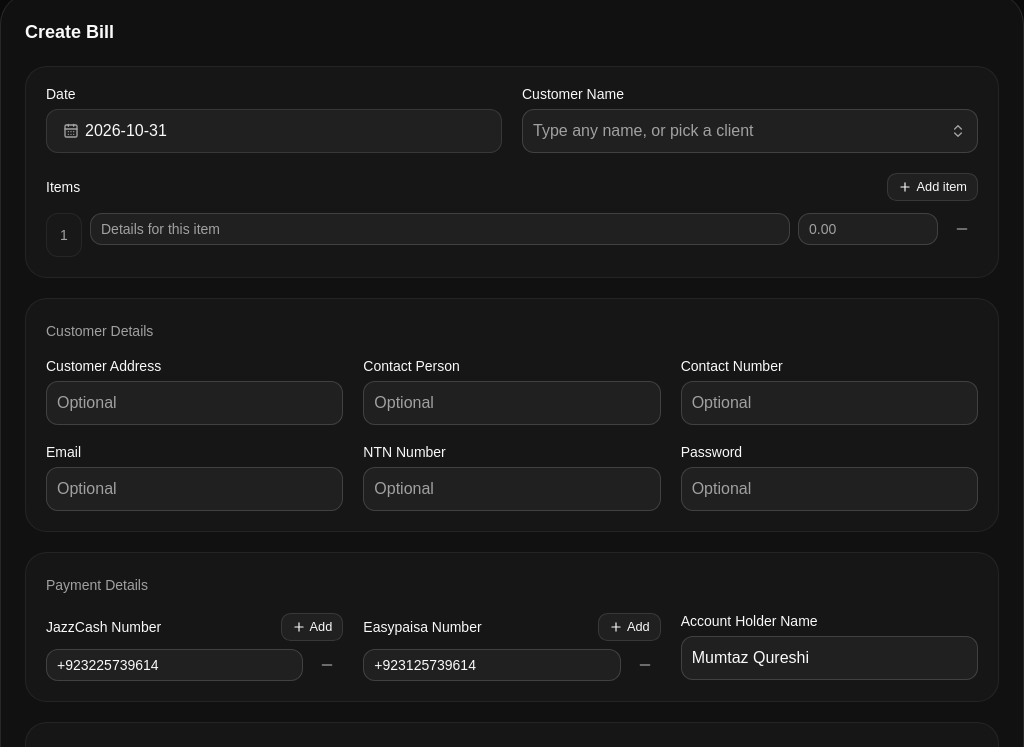
CreateBillForm › keeps Create Bill disabled until the required entries are valid
Type "Acme Traders" into the field named "Customer Name" at (750, 131), box top-left (522, 109), bottom-right (978, 153)
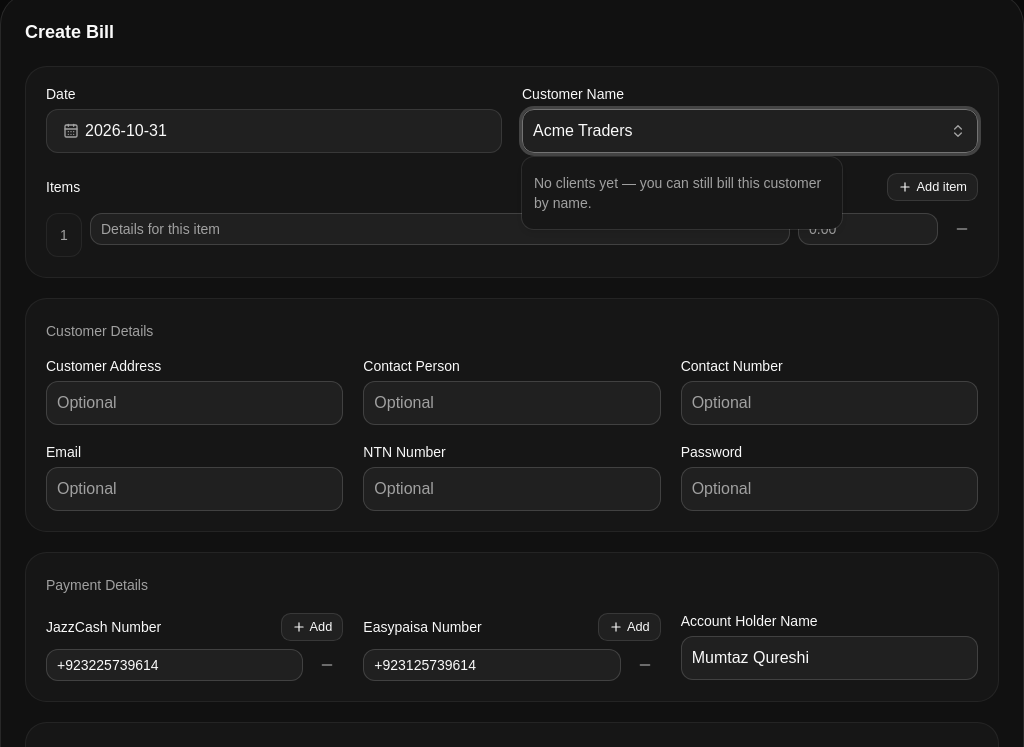
Type "Audit Fee" into the field named "Details for item 1" at (440, 229), box top-left (90, 213), bottom-right (790, 245)
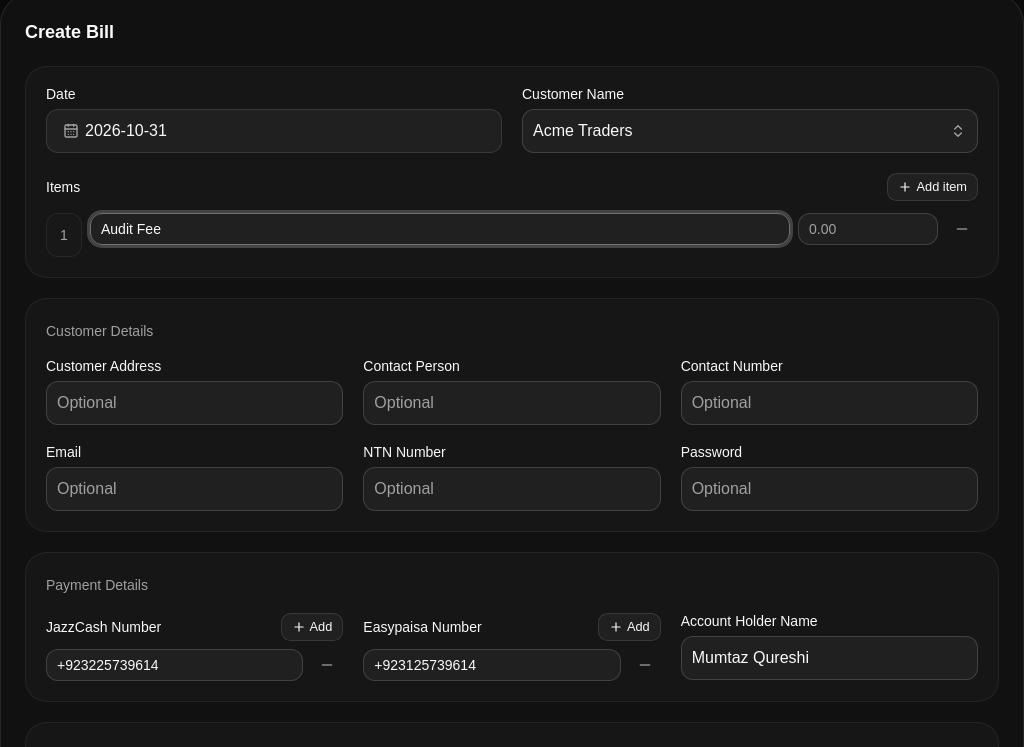
Type "1500" into the field named "Amount for item 1" at (868, 229), box top-left (798, 213), bottom-right (938, 245)
(page scrolled)
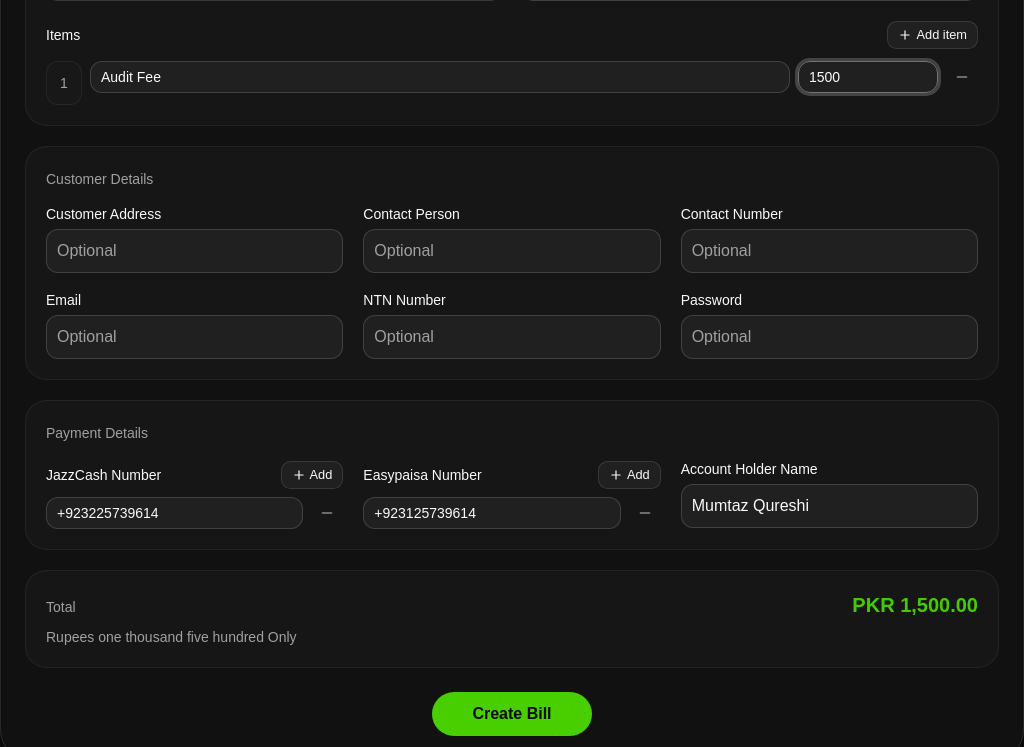
Check: the button "Create Bill" is enabled, box top-left (432, 692), bottom-right (592, 736)
